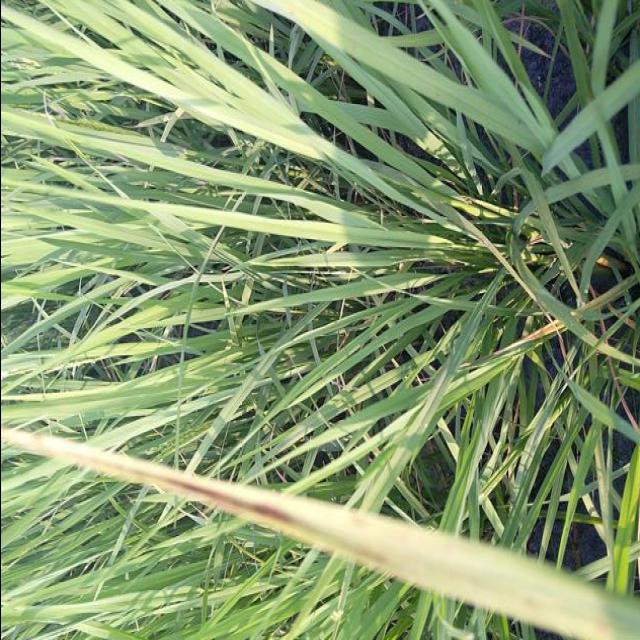Leaf Blight: (0, 426, 640, 640)
